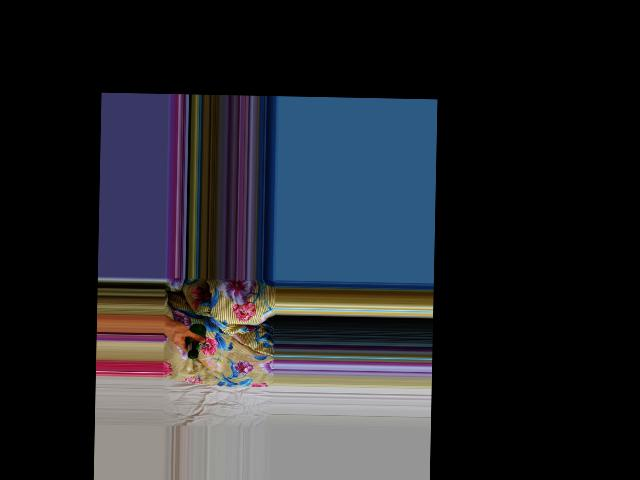beer: (184, 323, 205, 358)
